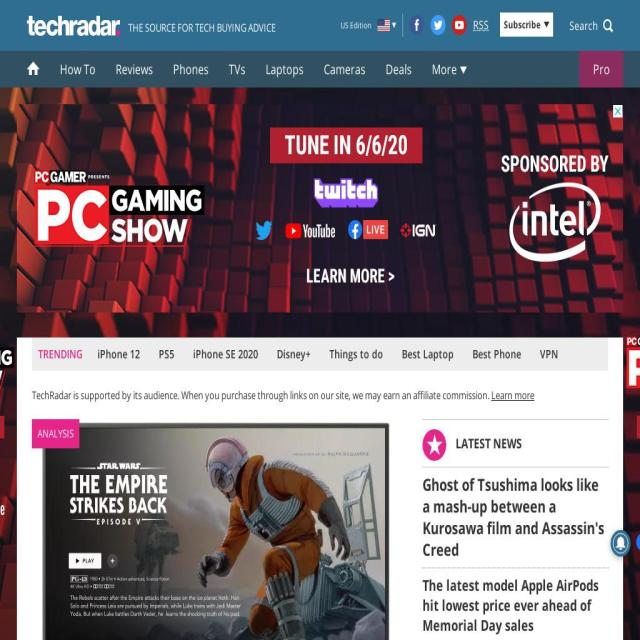button: (32, 419, 413, 640), (422, 468, 608, 568), (422, 568, 608, 640), (184, 337, 267, 371), (27, 11, 120, 38), (321, 337, 392, 371), (393, 337, 463, 371), (464, 337, 530, 371), (314, 51, 376, 87), (256, 51, 314, 87), (106, 51, 163, 87), (89, 337, 149, 371), (50, 51, 106, 87), (163, 51, 219, 87), (268, 337, 320, 371), (376, 51, 422, 87), (579, 51, 623, 87), (32, 419, 80, 448), (218, 51, 256, 87), (531, 337, 567, 371), (150, 337, 183, 371), (473, 15, 489, 35)
heading: (422, 474, 608, 561), (422, 575, 608, 635), (456, 434, 522, 453)
iframe: (17, 104, 623, 313)
image: (32, 419, 413, 640), (27, 16, 120, 36), (610, 530, 630, 557), (430, 15, 446, 35), (452, 15, 467, 35), (410, 15, 424, 35), (378, 19, 390, 32), (544, 21, 549, 28), (392, 22, 396, 28)
link: (492, 388, 534, 402), (473, 16, 489, 32)
text: (32, 388, 491, 402), (128, 22, 276, 34), (569, 0, 603, 51), (38, 337, 89, 371), (341, 13, 371, 37), (504, 18, 540, 32), (432, 60, 459, 78)
